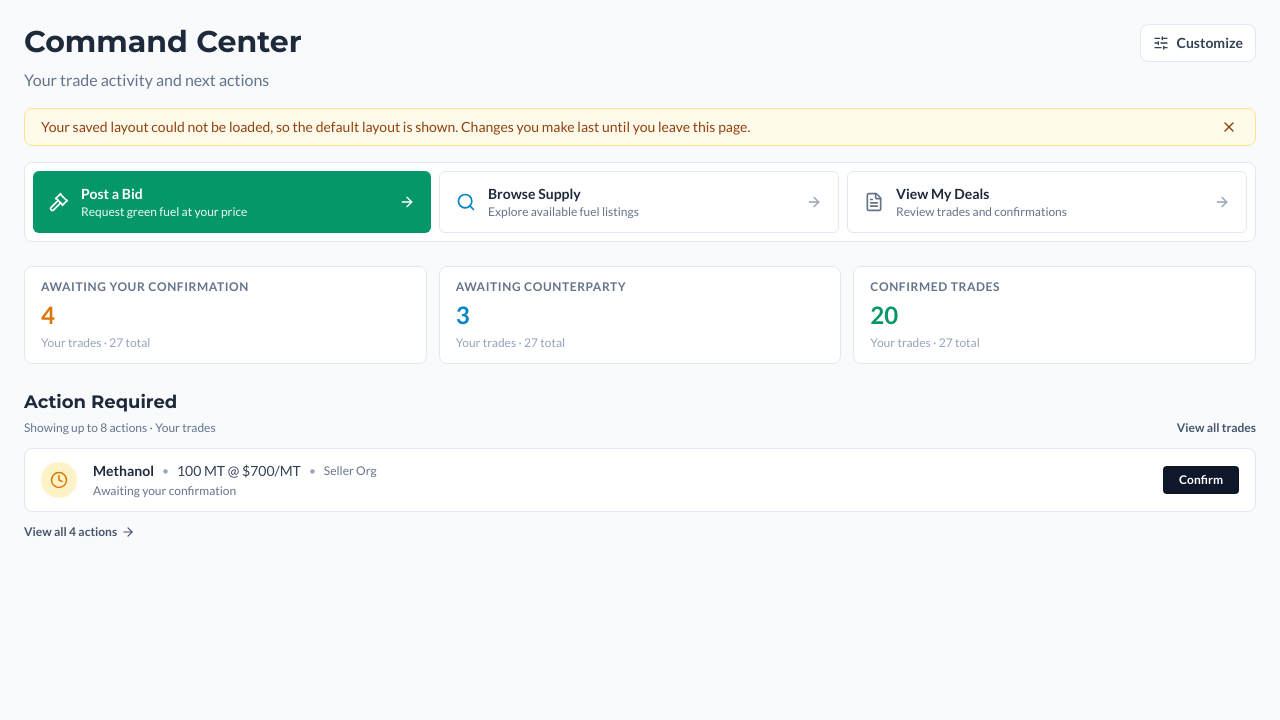
Command Center trade summaries and action queue › records the confirm event before the request is answered and keeps it after success
Click the button "Confirm" at (1201, 480), box [1163,466,1239,494]
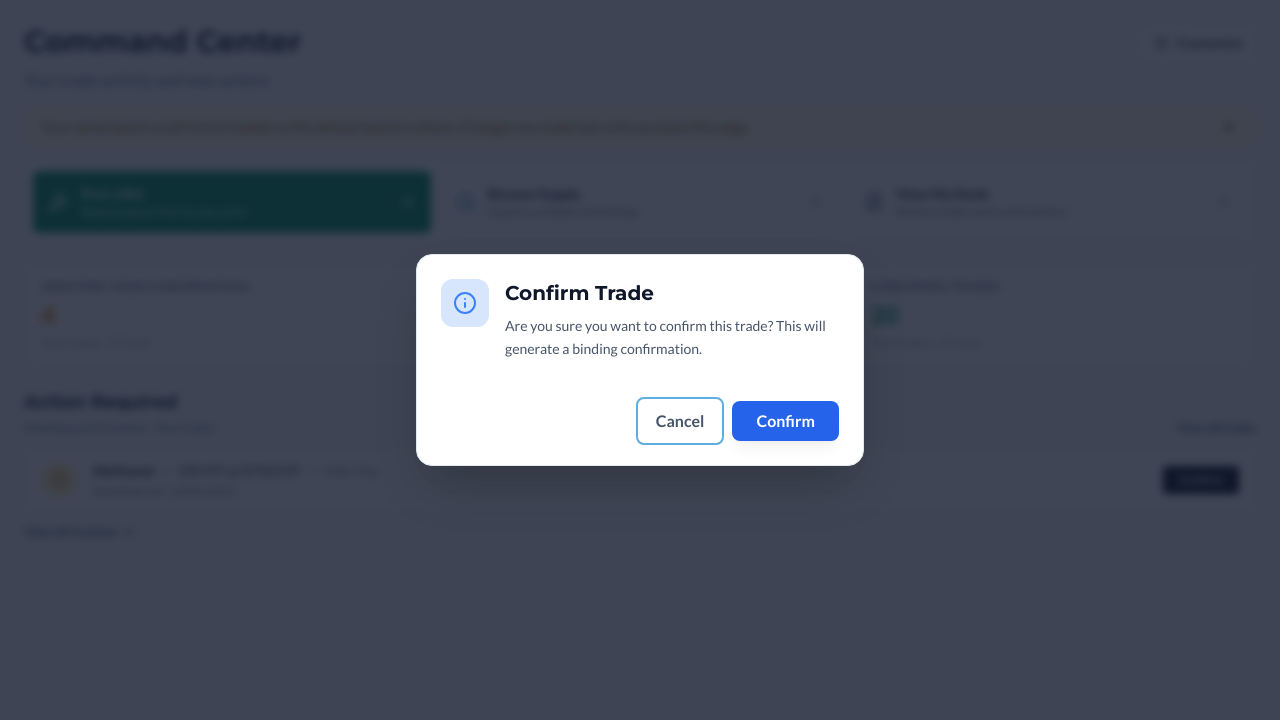
Click the button "Confirm" at (786, 421), box [732,401,839,441]
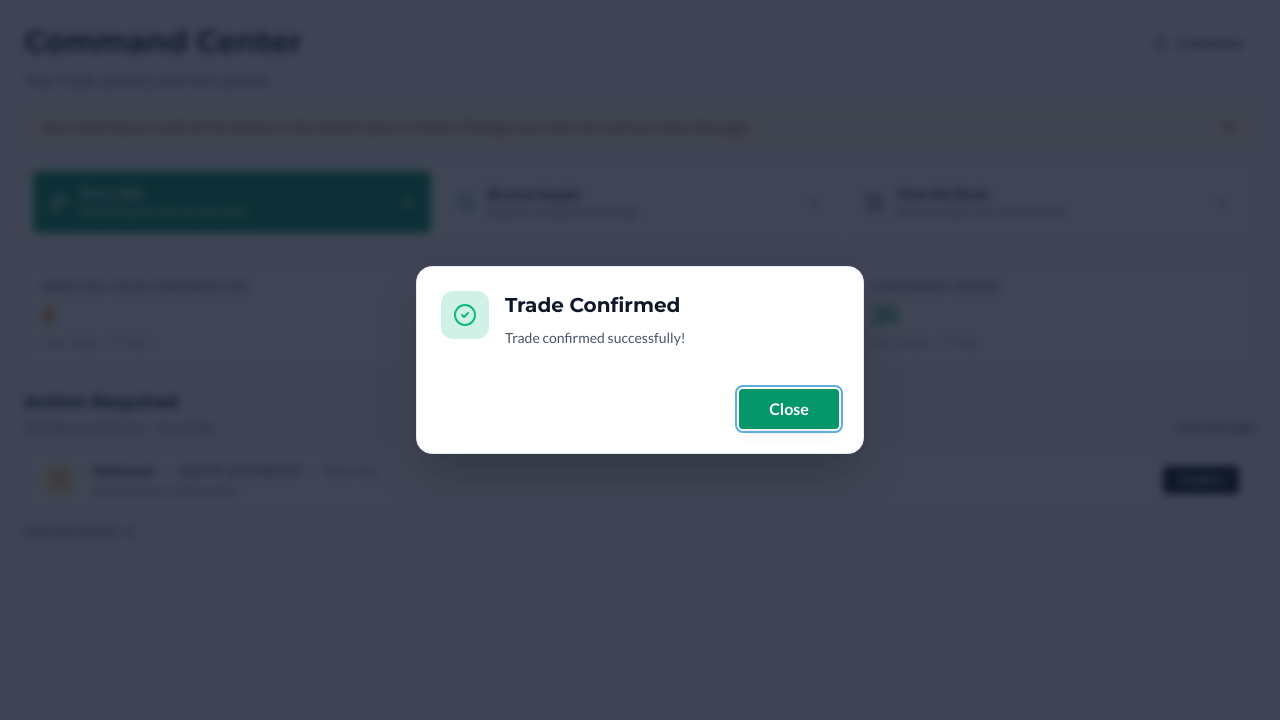
Result: the heading "Trade Confirmed" is shown at [505,293,680,317]
